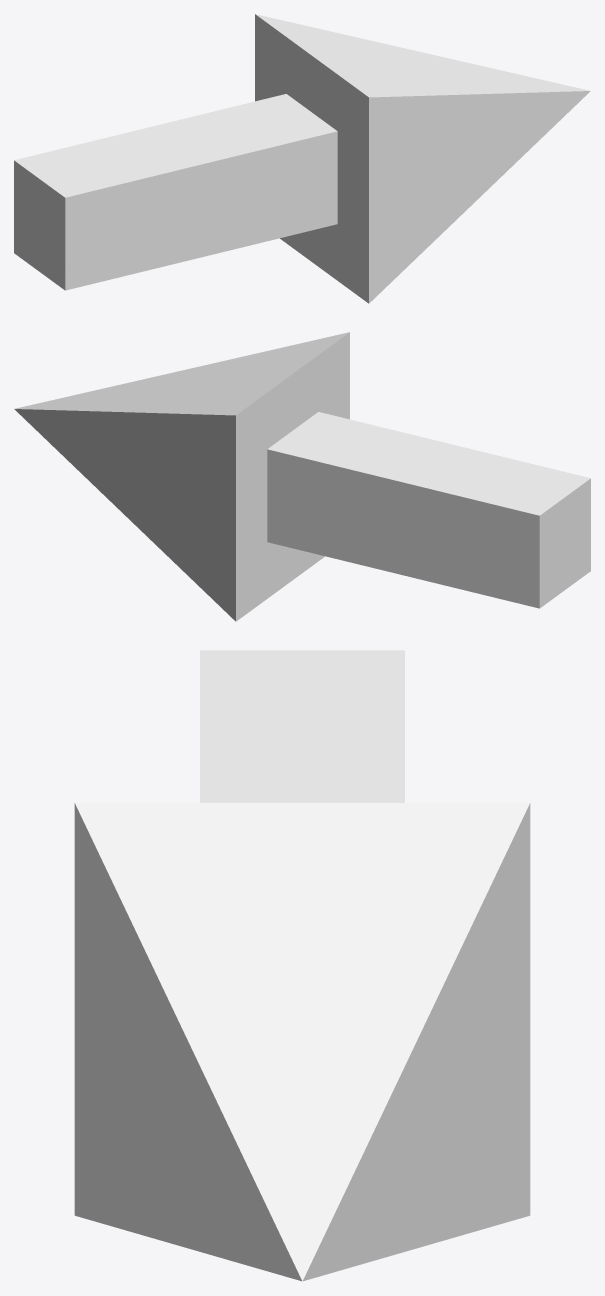
Rendered from arrow.obj.
The picture shows the model from 3 angles, top to bottom: view 1: azimuth 30°, elevation 25°; view 2: azimuth 150°, elevation 25°; view 3: azimuth 270°, elevation 25°; orthographic projection. The views are drawn at different scales.
Parts seen in each view (by area): view 1: pPyramid1, pCube1; view 2: pPyramid1, pCube1; view 3: pPyramid1, pCube1.
Boxes of the visible parts, x1,y1,x2,y2 form: pPyramid1: [255, 14, 590, 303]; pCube1: [14, 94, 337, 290]; pPyramid1: [14, 332, 349, 621]; pCube1: [267, 412, 590, 608]; pPyramid1: [74, 803, 530, 1281]; pCube1: [200, 650, 404, 802].
Bounding box in the file's own units: 0.5591 × 0.2 × 0.2.
